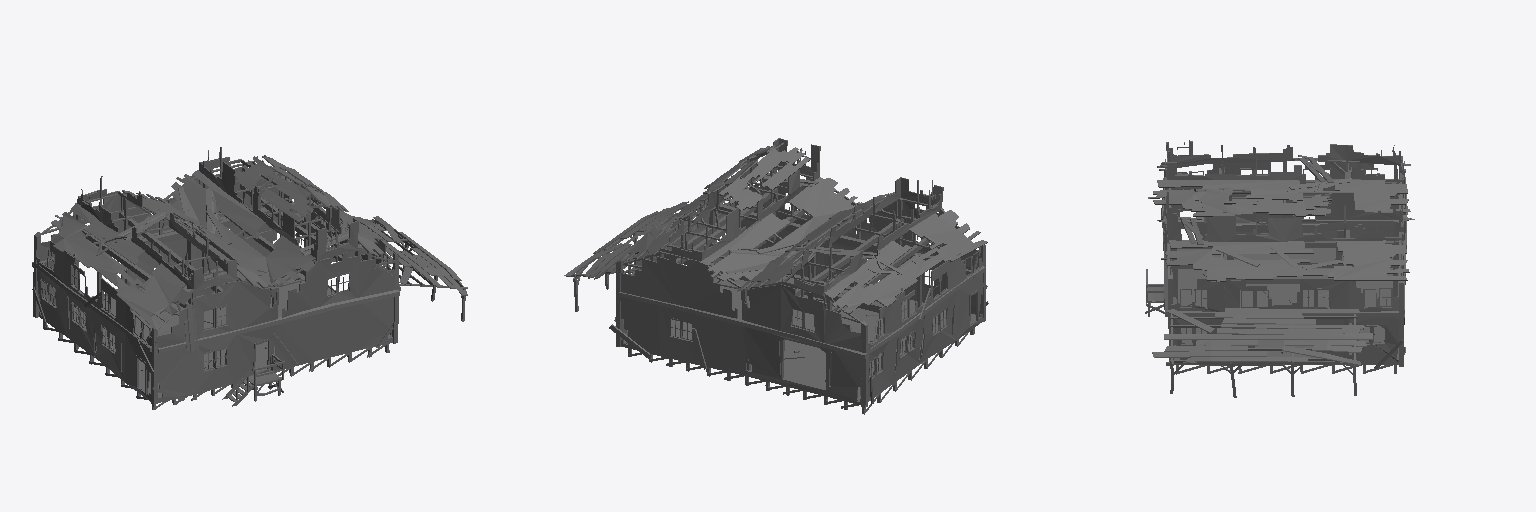
File: old_house.obj
3 views of the same model, side by side, from view 1: azimuth 30°, elevation 25°; view 2: azimuth 150°, elevation 25°; view 3: azimuth 270°, elevation 25° (orthographic).
Parts seen in each view (by area): view 1: a97ad49c, 6b696b5f, cbdd7173, 0a565e37; view 2: a97ad49c, 6b696b5f, cbdd7173, 0a565e37; view 3: 6b696b5f, a97ad49c, cbdd7173, 0a565e37.
Boxes of the visible parts, x1,y1,x2,y2 form: a97ad49c: [34, 157, 394, 402]; 6b696b5f: [32, 147, 467, 409]; cbdd7173: [51, 155, 384, 356]; 0a565e37: [74, 268, 391, 401]; a97ad49c: [620, 138, 982, 404]; 6b696b5f: [564, 148, 988, 414]; cbdd7173: [615, 143, 987, 364]; 0a565e37: [624, 274, 979, 400]; 6b696b5f: [1145, 140, 1407, 397]; a97ad49c: [1162, 141, 1405, 365]; cbdd7173: [1148, 158, 1414, 281]; 0a565e37: [1147, 248, 1398, 359].
Bounding box in the file's own units: 12.78 × 6.07 × 9.18.